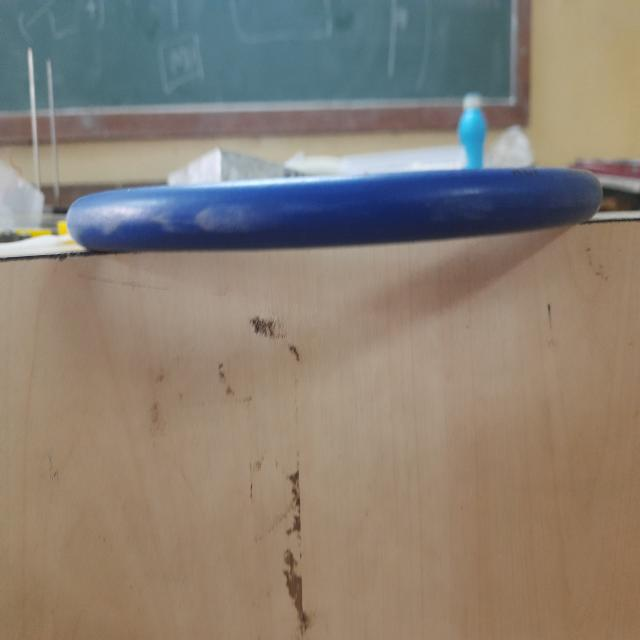daire: (71, 163, 601, 252)
